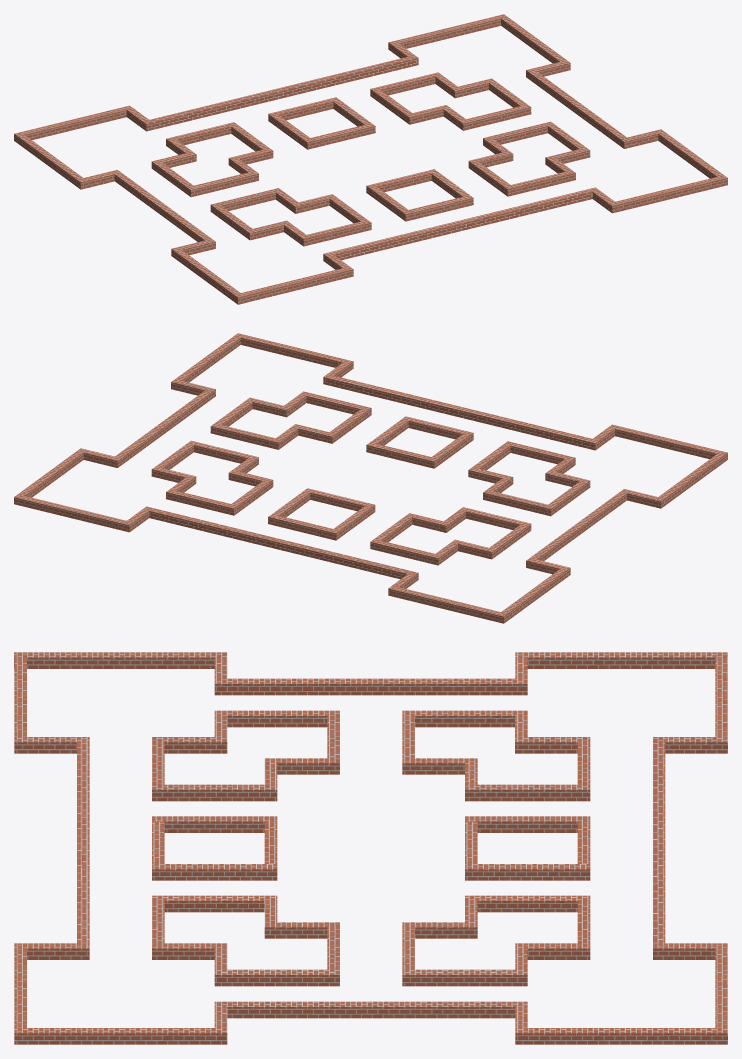
Rendered from Maze2.obj.
3 renders of one model, top to bottom at view 1: azimuth 30°, elevation 25°; view 2: azimuth 150°, elevation 25°; view 3: azimuth 270°, elevation 25°, orthographic. The views are drawn at different scales.
Parts seen in each view (by area): view 1: Plane; view 2: Plane; view 3: Plane.
Boxes of the visible parts, box(x1,y1,x2,y2) form: Plane: box(14, 14, 727, 304); Plane: box(14, 333, 727, 623); Plane: box(14, 652, 727, 1044).
Bounding box in the file's own units: 72 × 1 × 57.03.
1 material, 1 textured.
